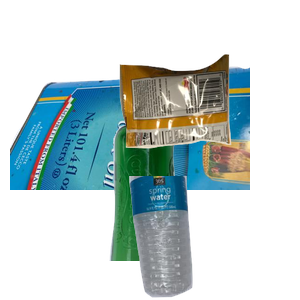glass: (107, 120, 278, 300)
metal: (10, 64, 250, 244)
plastic: (127, 176, 300, 300)
trash: (117, 52, 300, 193)
